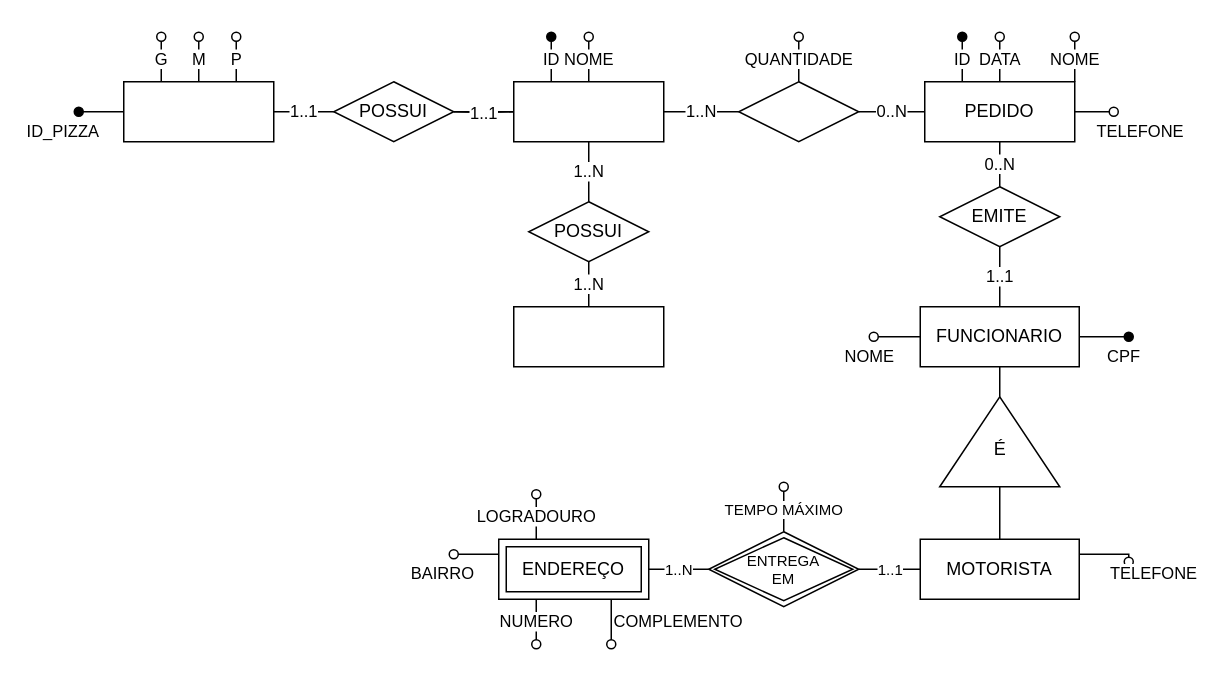
The diagram is 1223 pixels wide and 683 high, and some of its shapes have lost their labels. Each missing label, with the box of its shape:
COMPÕE: (737, 80, 859, 142)
INGREDIENTES: (512, 305, 664, 367)
PIZZA: (512, 80, 664, 142)
PREÇO: (122, 80, 274, 142)
